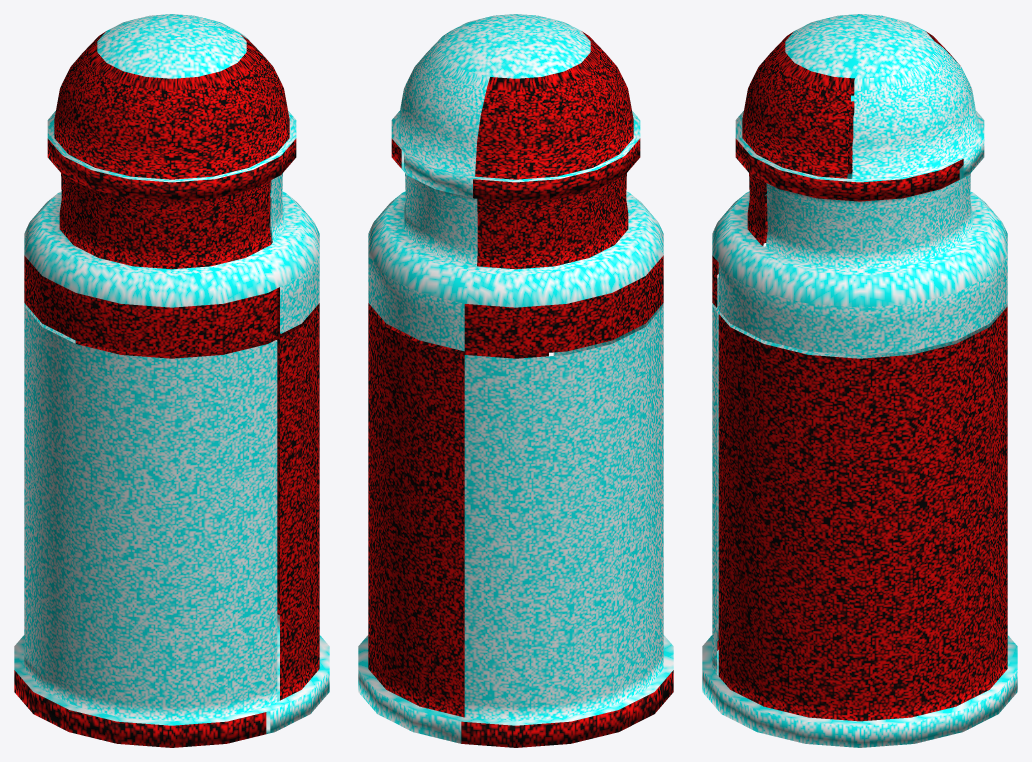
Rendered from SM_Grenade_01_KJS.fbx.
3 views of the same model, side by side, from view 1: azimuth 30°, elevation 25°; view 2: azimuth 150°, elevation 25°; view 3: azimuth 270°, elevation 25° (orthographic).
Visible parts, largest first — view 1: SM_Grenade_01_KJS; view 2: SM_Grenade_01_KJS; view 3: SM_Grenade_01_KJS.
Part boxes in pixels (x1,y1,x2,y2): SM_Grenade_01_KJS: (14,14,329,747); SM_Grenade_01_KJS: (358,14,673,747); SM_Grenade_01_KJS: (702,14,1017,747).
Size of the model in its own units: 21.79 by 48.77 by 21.45.
